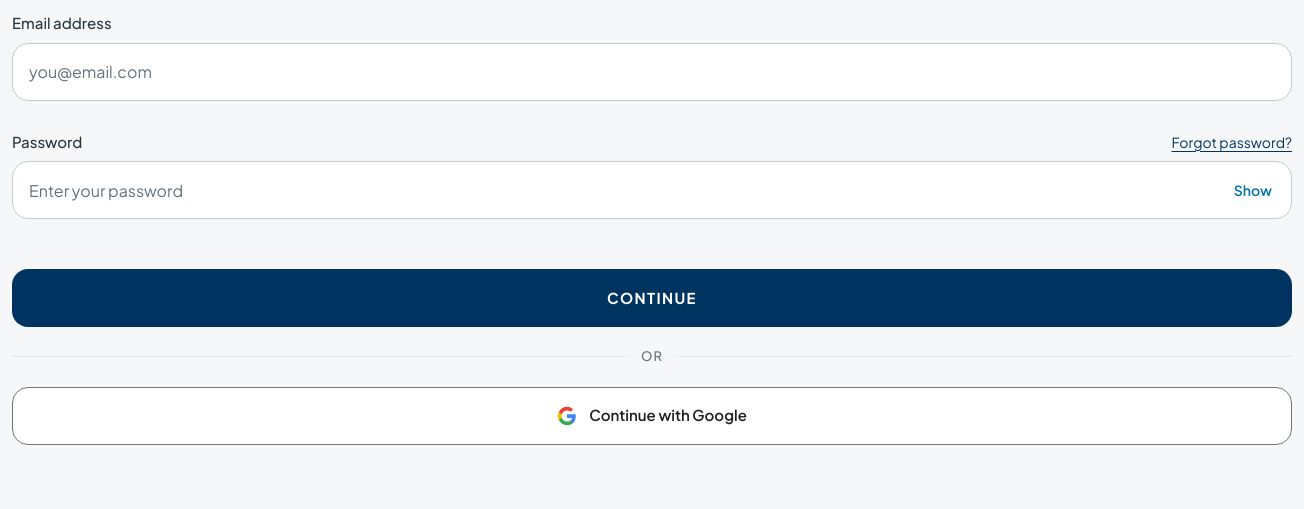
it: LoginForm — password sign-in › shows a wait-and-retry notice when the attempt is throttled
Type "shopper@example.com" into the field labelled "Email address" at (652, 72), box [12,42,1292,100]
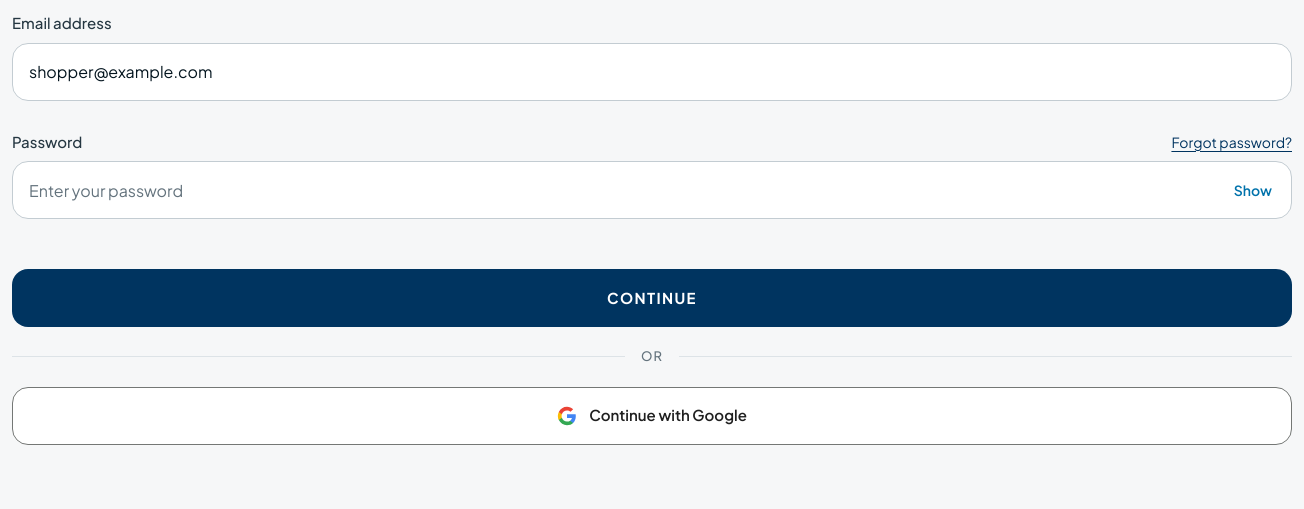
Type "correct-horse-1" into the password field labelled "Password" at (652, 190), box [12,161,1292,219]
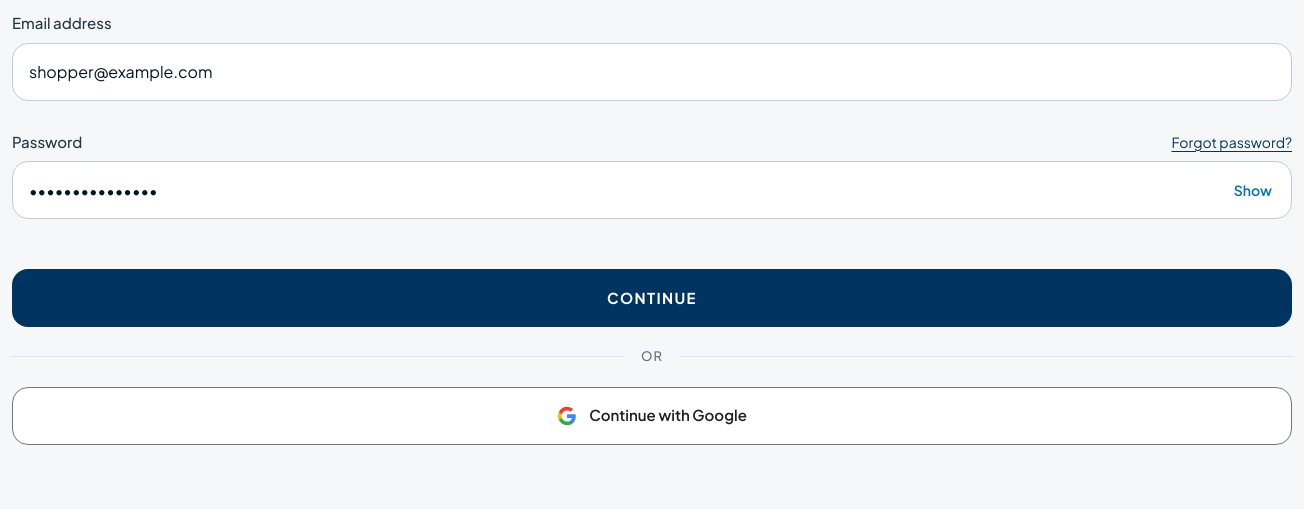
Click the button "Continue" at (652, 298), box [12,269,1292,327]
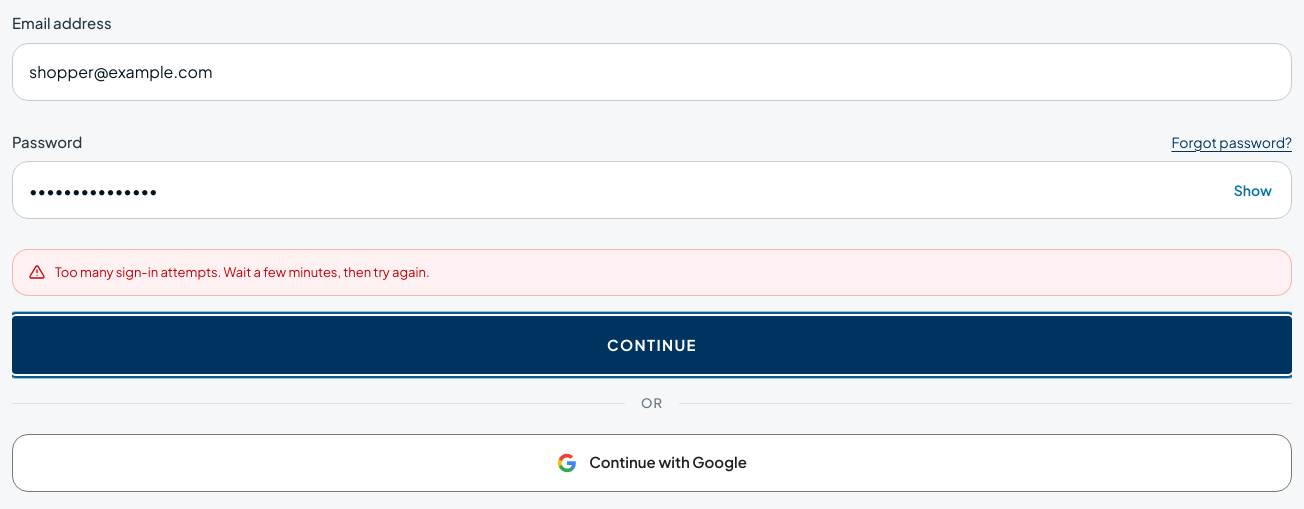
Now the message shows "Too many sign-in attempts", box [55,264,430,280]
